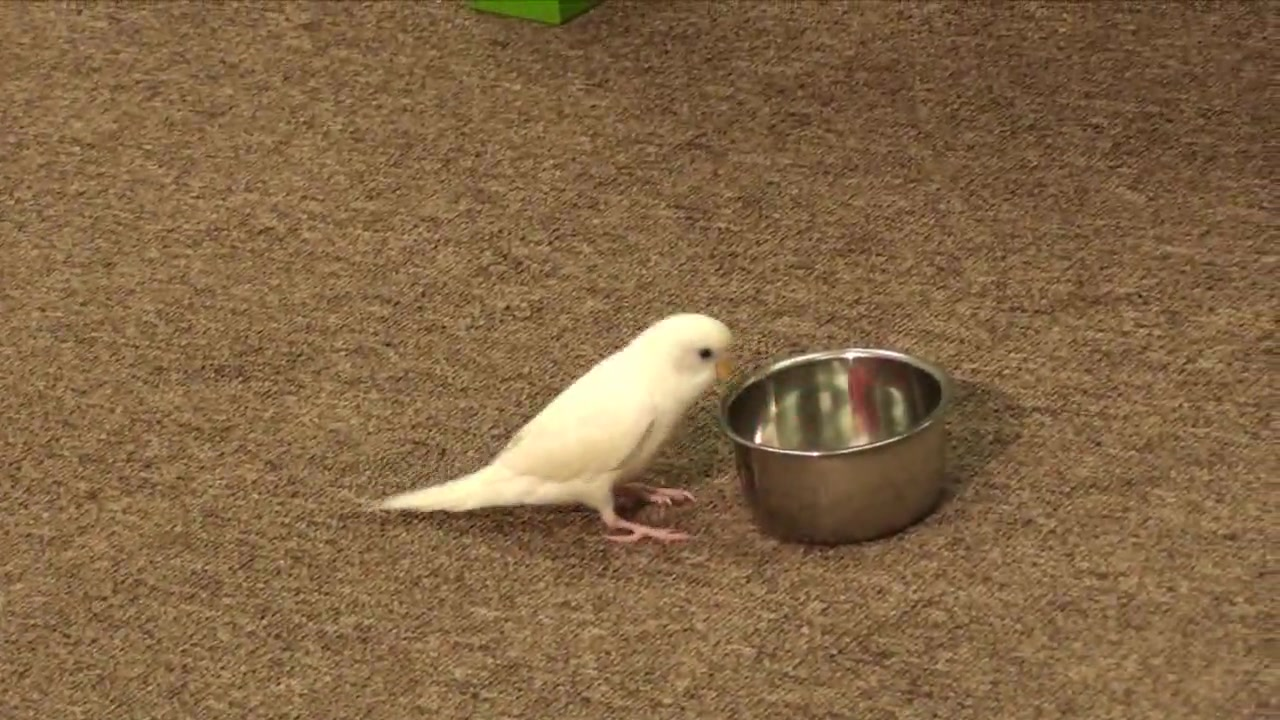bird: (368, 313, 736, 546)
